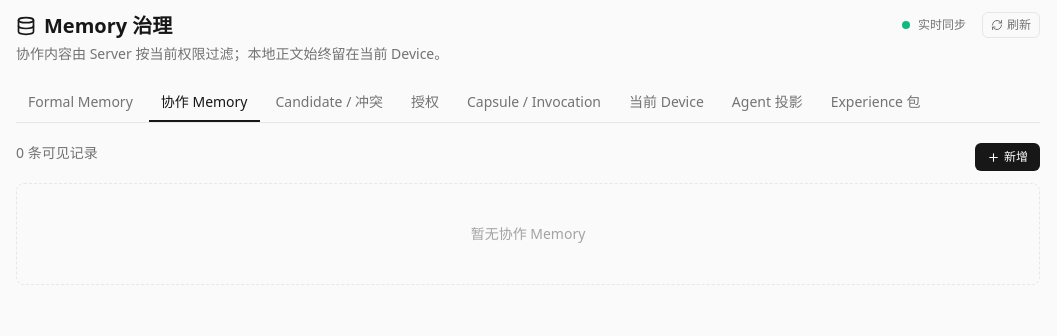
Test: Agent Memory Projection consumption (issue #718 AC#6b) › renders team opted-in projections from getConsumable
Click the button "Agent 投影". click: click(767, 103)
box: top-left (720, 84), bottom-right (815, 122)
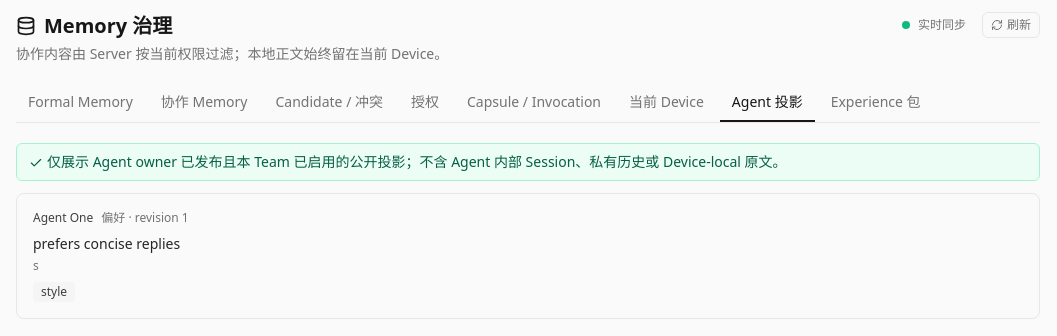
Result: the text "prefers concise replies" is shown at top-left (33, 234), bottom-right (180, 253)
Result: the text "Agent One" is shown at top-left (33, 210), bottom-right (93, 226)
Result: the text "偏好 · revision 1" is shown at top-left (101, 210), bottom-right (189, 226)
